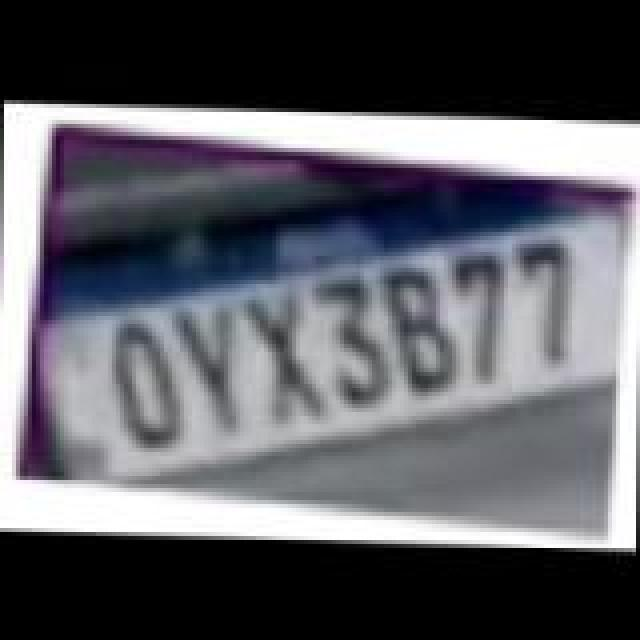3: (312, 270, 400, 402)
7: (446, 248, 522, 376), (510, 234, 586, 362)
B: (376, 262, 464, 390)
O: (104, 316, 188, 448)
X: (242, 292, 334, 420)
Y: (176, 302, 256, 434)
